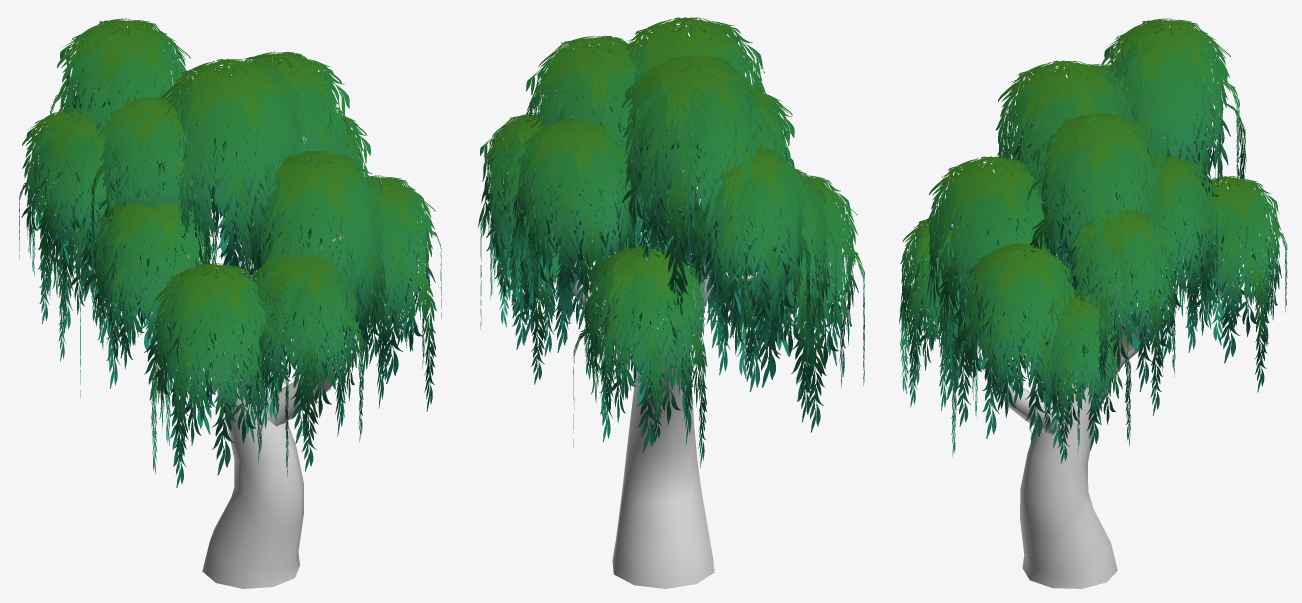
The model's file is willow_03.fbx.
3 renders of one model, left to right at view 1: azimuth 30°, elevation 25°; view 2: azimuth 150°, elevation 25°; view 3: azimuth 270°, elevation 25°, orthographic. The views are drawn at different scales.
Parts seen in each view (by area): view 1: loose.018, loose.013, default curve.010, loose.012, loose.014, loose.015; view 2: loose.018, default curve.010, loose.013, loose.012, loose.015, loose.014; view 3: loose.018, loose.014, default curve.010, loose.015, loose.013.
Part boxes in pixels (box(x1,y1,x2,y2)): loose.018: box(19, 18, 387, 471); loose.013: box(150, 263, 288, 487); default curve.010: box(122, 134, 343, 588); loose.012: box(80, 191, 212, 413); loose.014: box(321, 175, 441, 411); loose.015: box(333, 224, 407, 385); loose.018: box(478, 17, 810, 467); default curve.010: box(540, 93, 757, 588); loose.013: box(734, 175, 865, 432); loose.012: box(696, 168, 837, 422); loose.015: box(493, 197, 595, 384); loose.014: box(532, 115, 630, 356); loose.018: box(899, 18, 1287, 415); loose.014: box(951, 243, 1080, 456); default curve.010: box(951, 189, 1227, 588); loose.015: box(1030, 289, 1131, 463); loose.013: box(935, 208, 1031, 426).
Bounding box in the file's own units: 805 × 1195 × 835.
